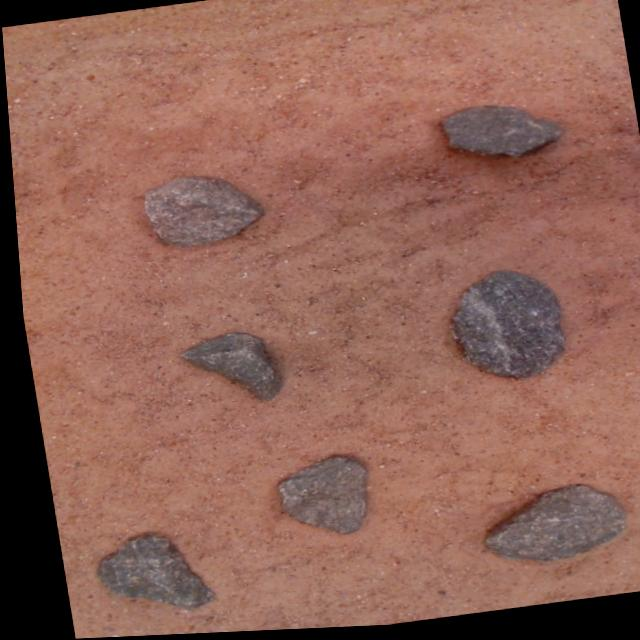rock: (444, 275, 557, 382), (475, 489, 615, 564), (86, 535, 203, 609), (140, 177, 258, 248), (174, 334, 273, 403), (269, 458, 356, 536), (438, 109, 558, 161)
